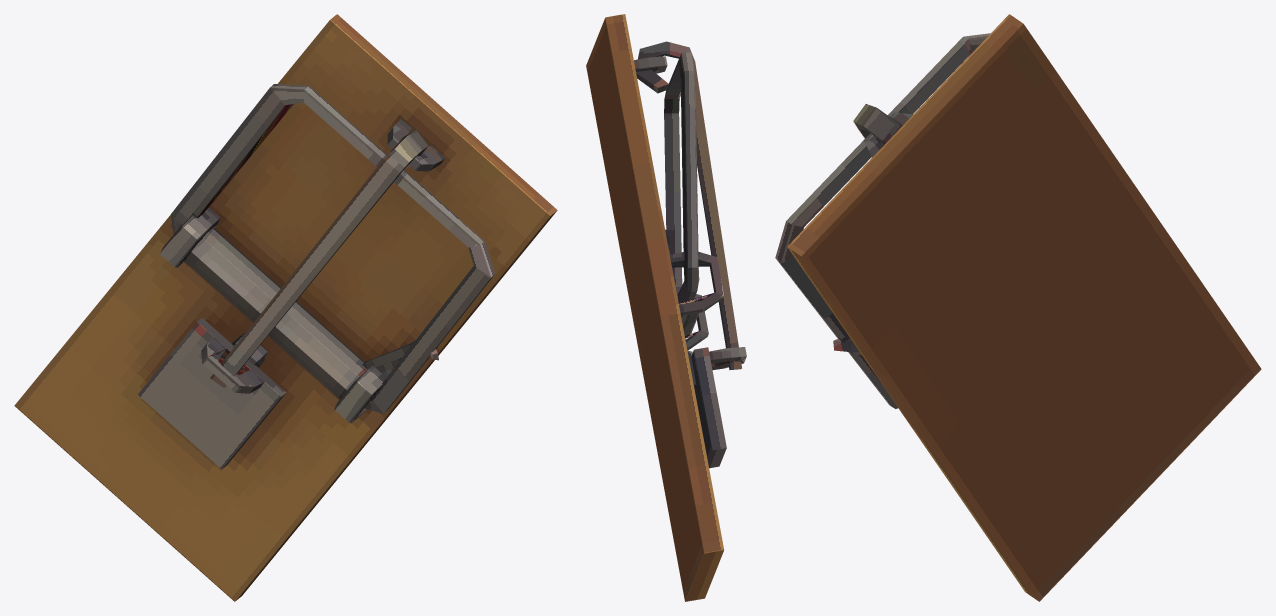
File: item_bait_mouse_trap.glb
The picture shows the model from 3 angles, left to right: view 1: azimuth 30°, elevation 25°; view 2: azimuth 150°, elevation 25°; view 3: azimuth 270°, elevation 25°; orthographic projection. The views are drawn at different scales.
Visible parts, largest first — view 1: Bait_MouseTrap; view 2: Bait_MouseTrap; view 3: Bait_MouseTrap.
Part boxes in pixels (<box>): Bait_MouseTrap: <box>14,14,557,601</box>; Bait_MouseTrap: <box>586,14,746,601</box>; Bait_MouseTrap: <box>775,14,1261,601</box>.
Size of the model in its own units: 0.0949 by 0.1507 by 0.1058.
Materials: 1 (1 with a texture image).
